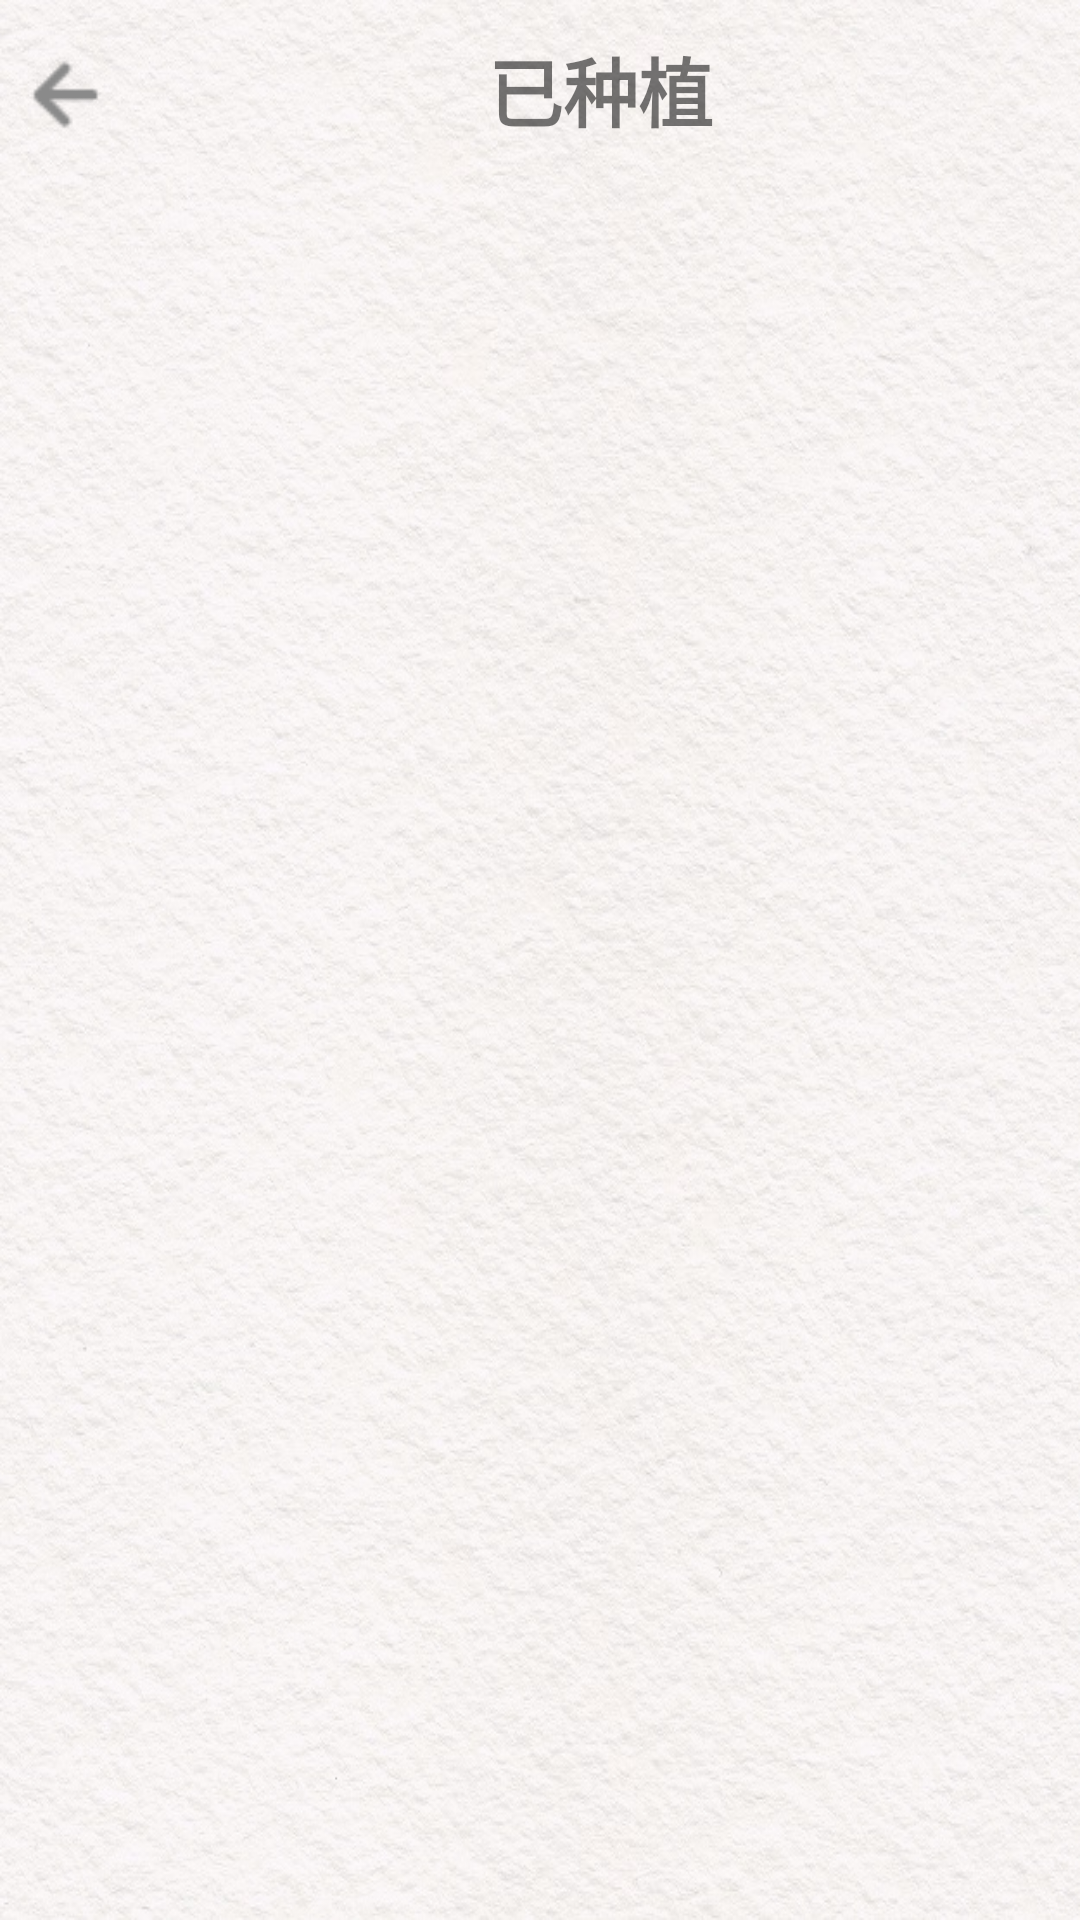

Point at icon controls on the screen. Image size 1080px×1920px, points as (x,y).
back: (65,94)
